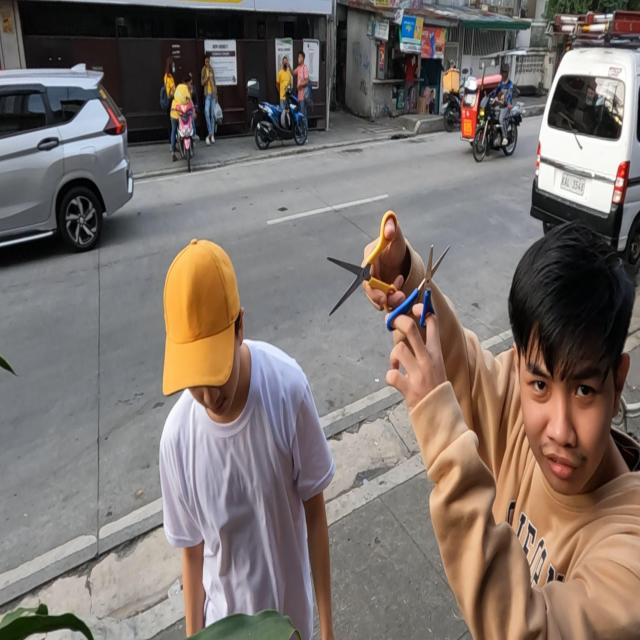scissor: (327, 210, 399, 316), (386, 243, 451, 332)
